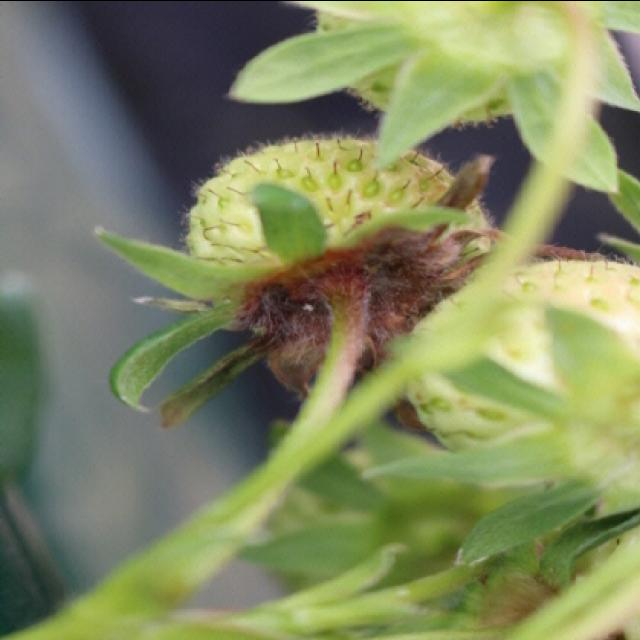Gray Mold: (160, 151, 596, 435)
